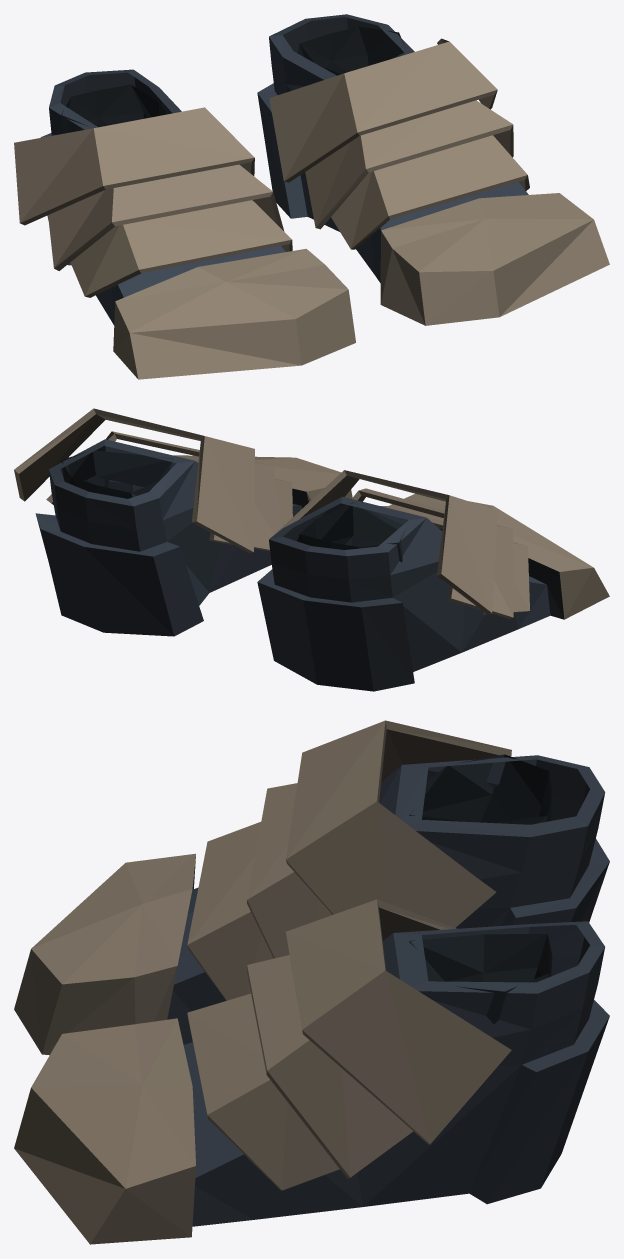
Rendered from dragonslayer_feet.glb.
3 views of the same model, one above another, from view 1: azimuth 30°, elevation 25°; view 2: azimuth 150°, elevation 25°; view 3: azimuth 270°, elevation 25° (orthographic). The views are drawn at different scales.
Visible parts, largest first — view 1: dragonslayer_feet; view 2: dragonslayer_feet; view 3: dragonslayer_feet.
Part boxes in pixels (box(x1,y1,x2,y2)): dragonslayer_feet: box(14, 14, 609, 379); dragonslayer_feet: box(14, 408, 609, 691); dragonslayer_feet: box(14, 720, 609, 1244).
Size of the model in its own units: 1 by 0.3281 by 0.7591.
